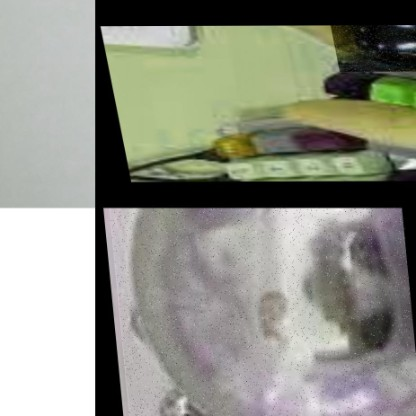ironball: (107, 208, 415, 415), (329, 25, 415, 71)
